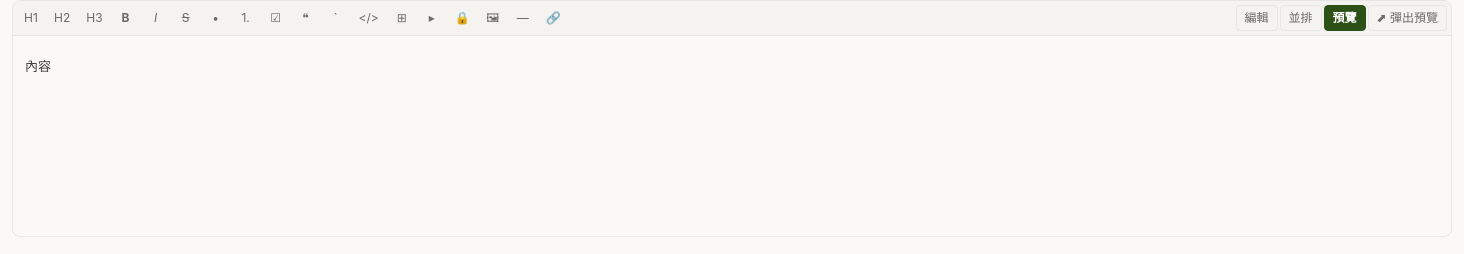
Scenario: rightClickTogglesEdit（A3~A6、A12） › A3: 預覽中快速連點兩下右鍵（<500ms）→ 切到編輯，且兩次 contextmenu 都被 preventDefault
This screenshot has width=1464, height=254.
Right-click the element with class "mde-preview": (732, 136) [13, 36, 1451, 236]
Right-click the element with class "mde-preview": (732, 136) [13, 36, 1451, 236]
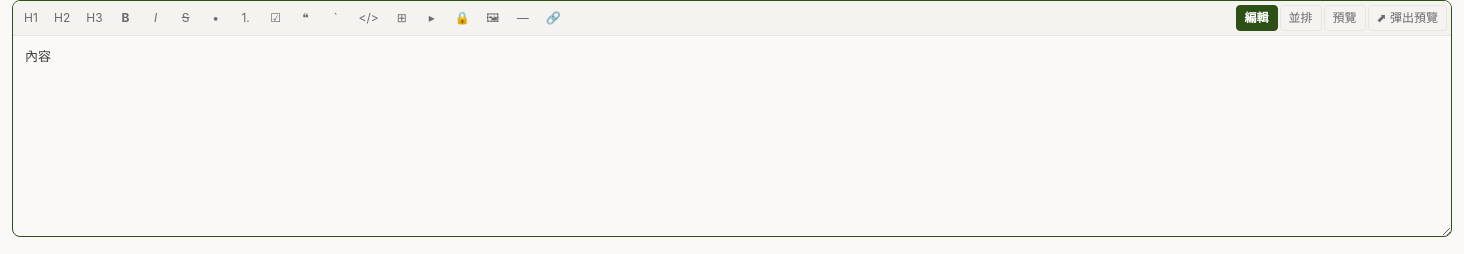
Expected: the text box named "Markdown 編輯器" is shown
